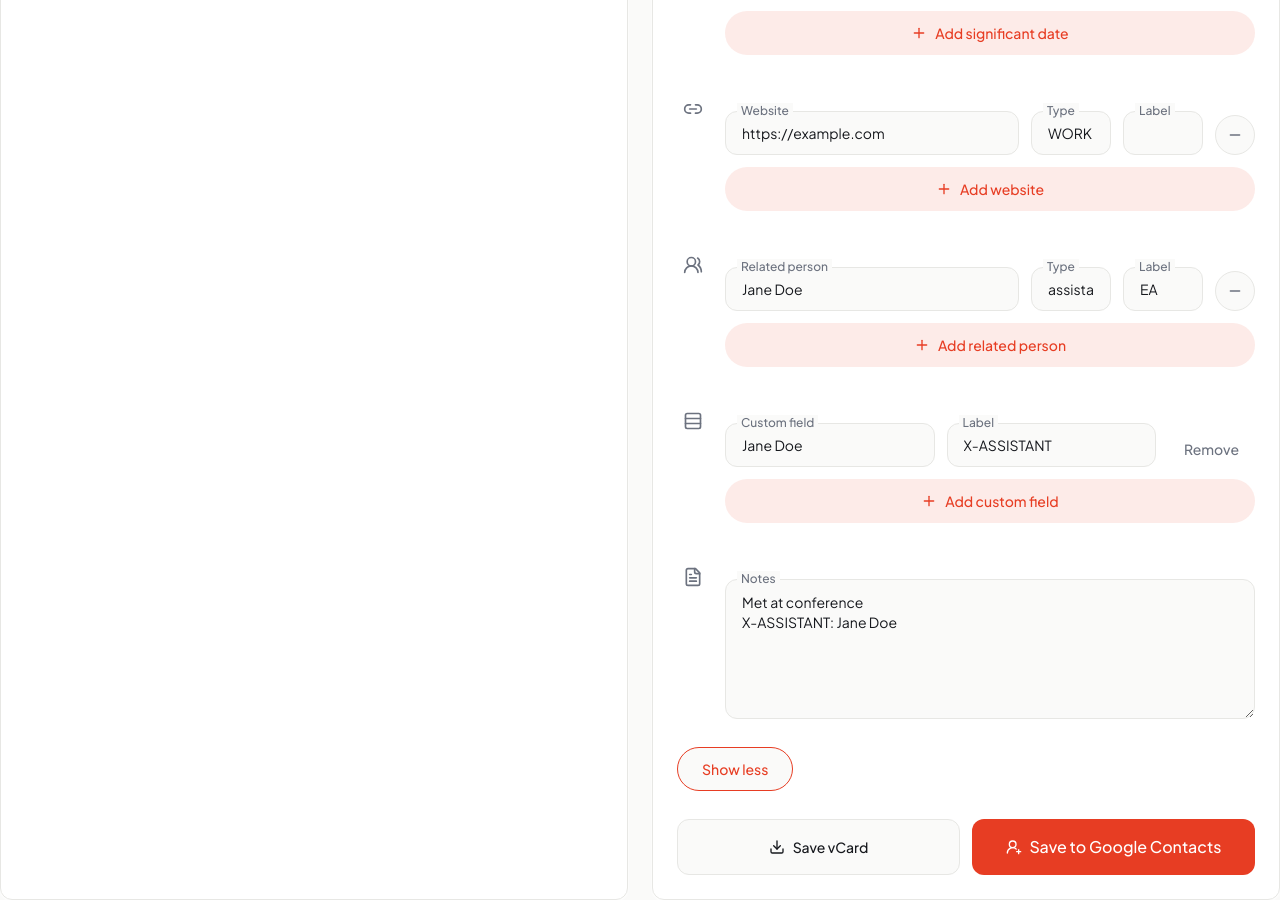
ReviewWorkspace › connects Google on demand before syncing when signed out
(page scrolled)
Click the button "Save to Google Contacts": [1114, 847] box [972, 819, 1255, 875]
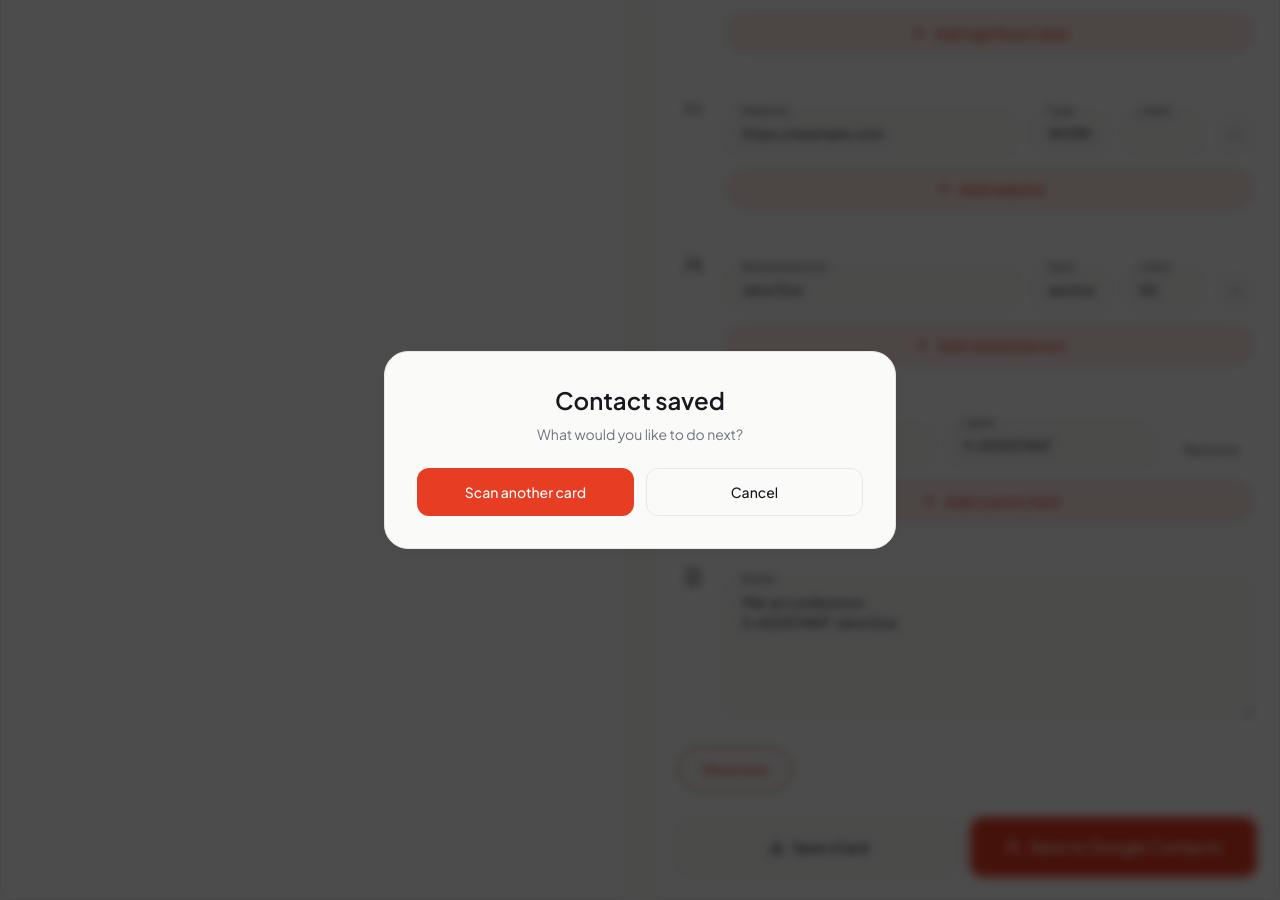
Check: the dialog "Contact saved" is shown
